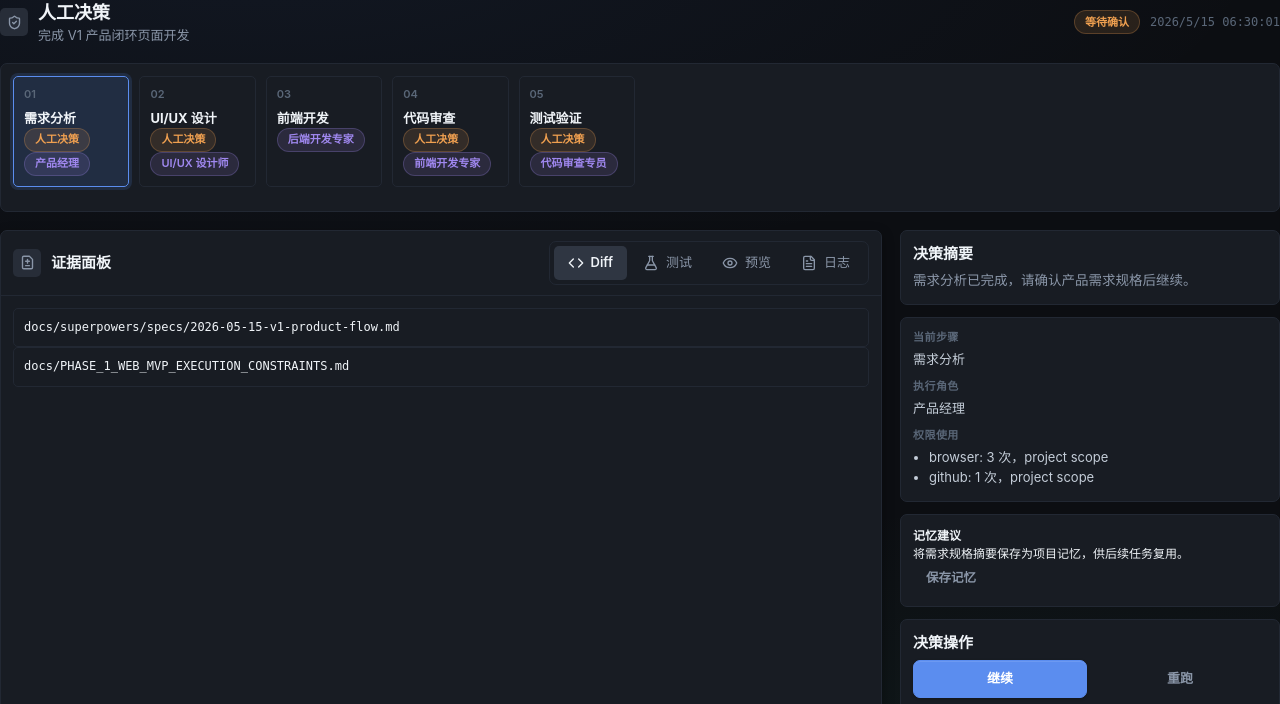
MVP 交互闭环验证 › Manual Gate 四个动作都有状态变化
Expected: the button "重跑" is shown, [1093,660,1267,698]
Click the button "继续" at (1000, 679), box [913,660,1087,698]
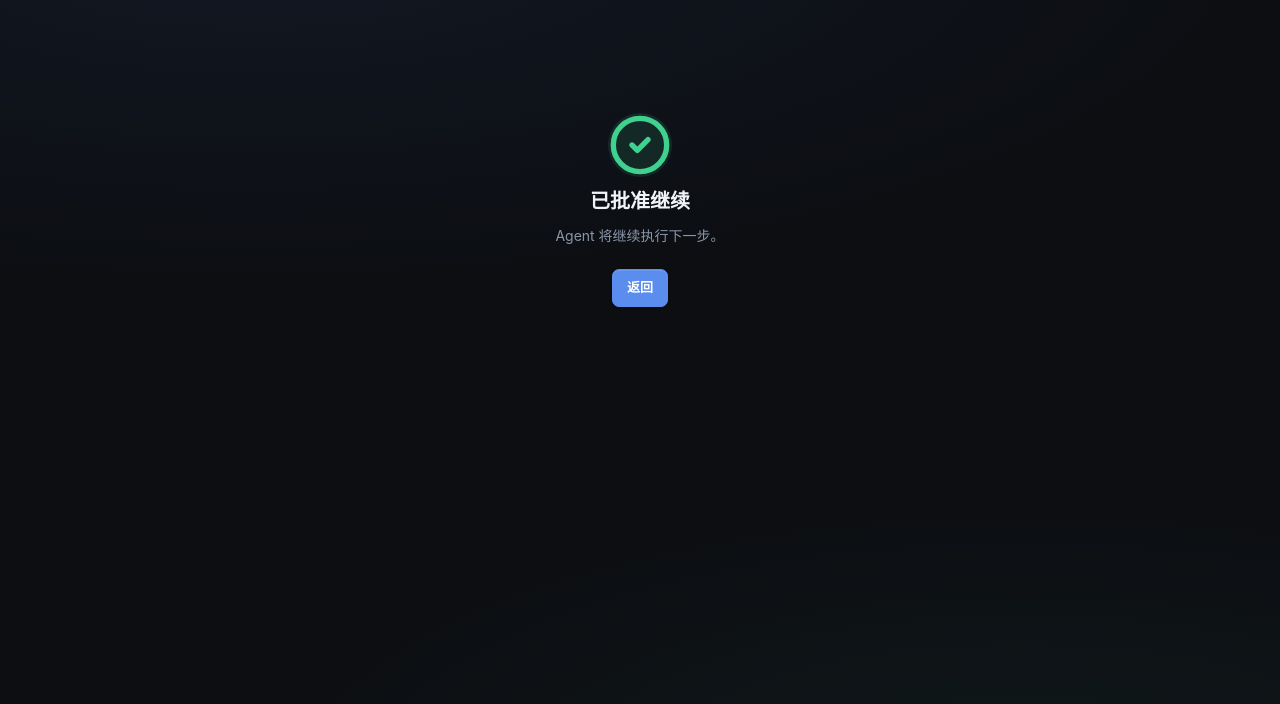
Now the heading "已批准继续" is shown, box [590,187,690,216]
